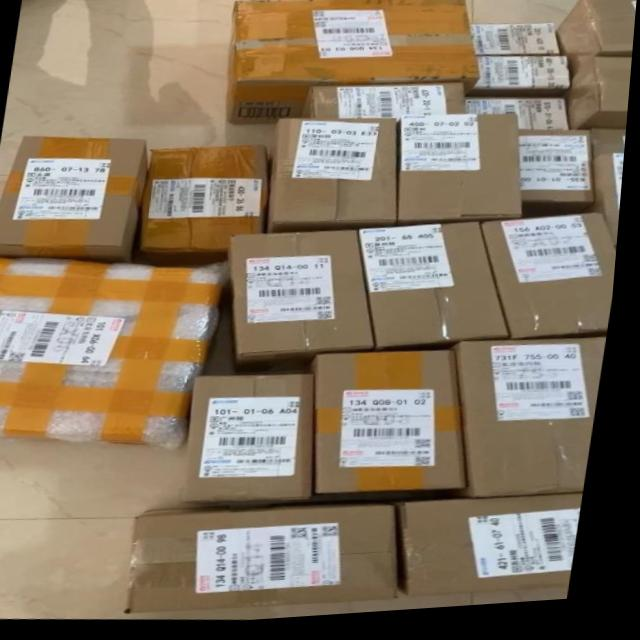box: (0, 256, 233, 452), (227, 2, 482, 128), (133, 504, 407, 616), (461, 346, 611, 504), (320, 357, 475, 499), (233, 234, 380, 374), (360, 227, 513, 358), (402, 501, 592, 605), (0, 135, 151, 265), (485, 220, 621, 346), (189, 377, 319, 505), (269, 122, 400, 237), (397, 121, 527, 232), (147, 148, 269, 255), (557, 2, 638, 87), (521, 136, 597, 222), (303, 88, 469, 122), (587, 137, 629, 254), (567, 65, 634, 138), (469, 62, 570, 106), (468, 104, 573, 137), (472, 29, 562, 61)
